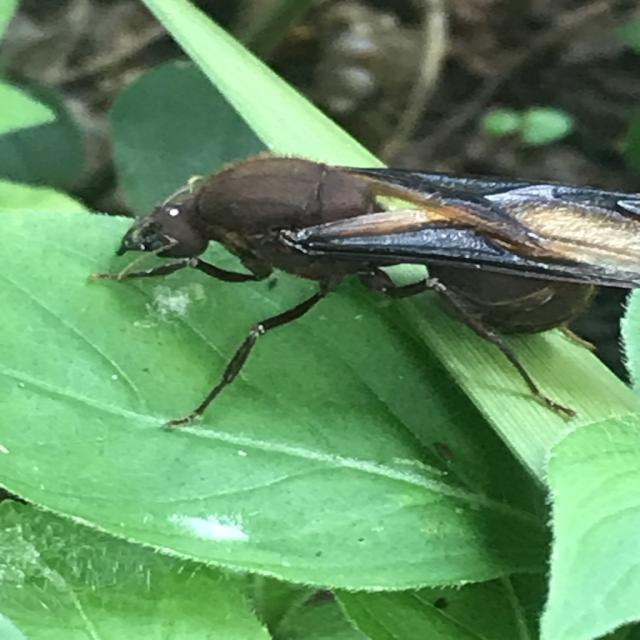Alive-Female-Alate: (88, 151, 640, 431)
